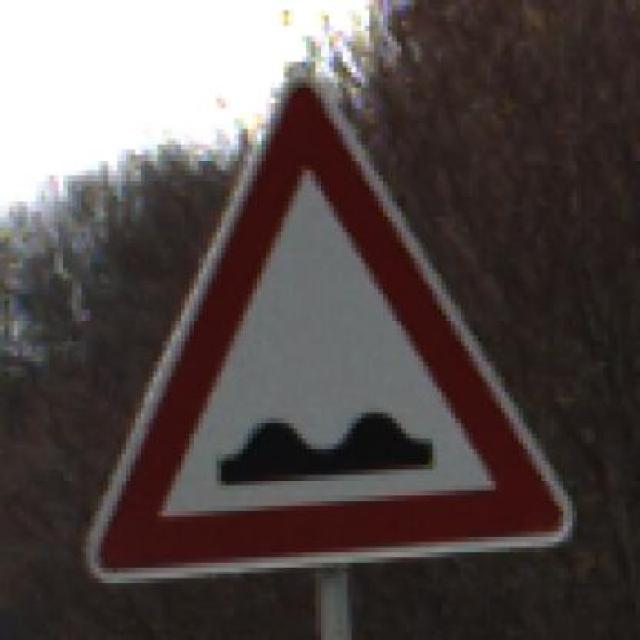Uneven Road: (68, 77, 586, 583)
